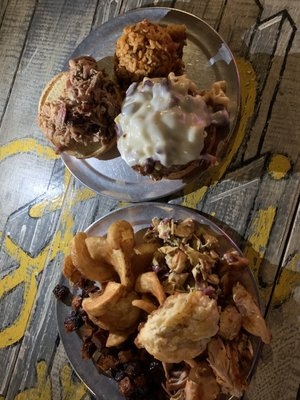sushi: (38, 4, 254, 204)
